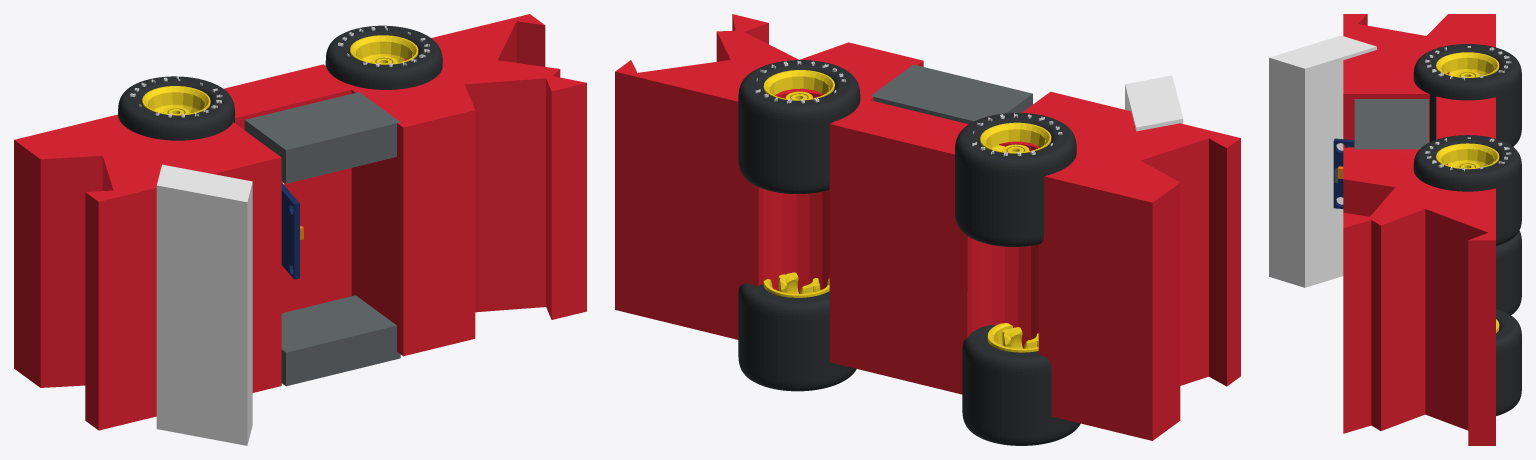
File: tinker.obj
The picture shows the model from 3 angles, left to right: view 1: azimuth 30°, elevation 25°; view 2: azimuth 150°, elevation 25°; view 3: azimuth 270°, elevation 25°; orthographic projection. The views are drawn at different scales.
Parts seen in each view (by area): view 1: group_0_15277357, group_0_16448250, group_0_6383466, group_0_2829873, group_0_16768282, group_0_1650274; view 2: group_0_15277357, group_0_2829873, group_0_6383466, group_0_16768282, group_0_16448250; view 3: group_0_15277357, group_0_16448250, group_0_2829873, group_0_6383466, group_0_16768282, group_0_1650274.
Boxes of the visible parts, <box> form: group_0_15277357: <box>14,14,586,430</box>; group_0_16448250: <box>130,26,429,445</box>; group_0_6383466: <box>244,92,400,386</box>; group_0_2829873: <box>118,25,442,140</box>; group_0_16768282: <box>142,35,418,115</box>; group_0_1650274: <box>281,182,299,279</box>; group_0_15277357: <box>615,14,1240,440</box>; group_0_2829873: <box>738,60,1080,445</box>; group_0_6383466: <box>871,64,1032,124</box>; group_0_16768282: <box>763,70,1051,352</box>; group_0_16448250: <box>755,61,1183,156</box>; group_0_15277357: <box>1343,14,1495,445</box>; group_0_16448250: <box>1269,35,1511,287</box>; group_0_2829873: <box>1413,44,1521,415</box>; group_0_6383466: <box>1334,99,1428,182</box>; group_0_16768282: <box>1436,52,1499,332</box>; group_0_1650274: <box>1333,138,1354,208</box>.
Bounding box in the file's own units: 144 × 74 × 68.
